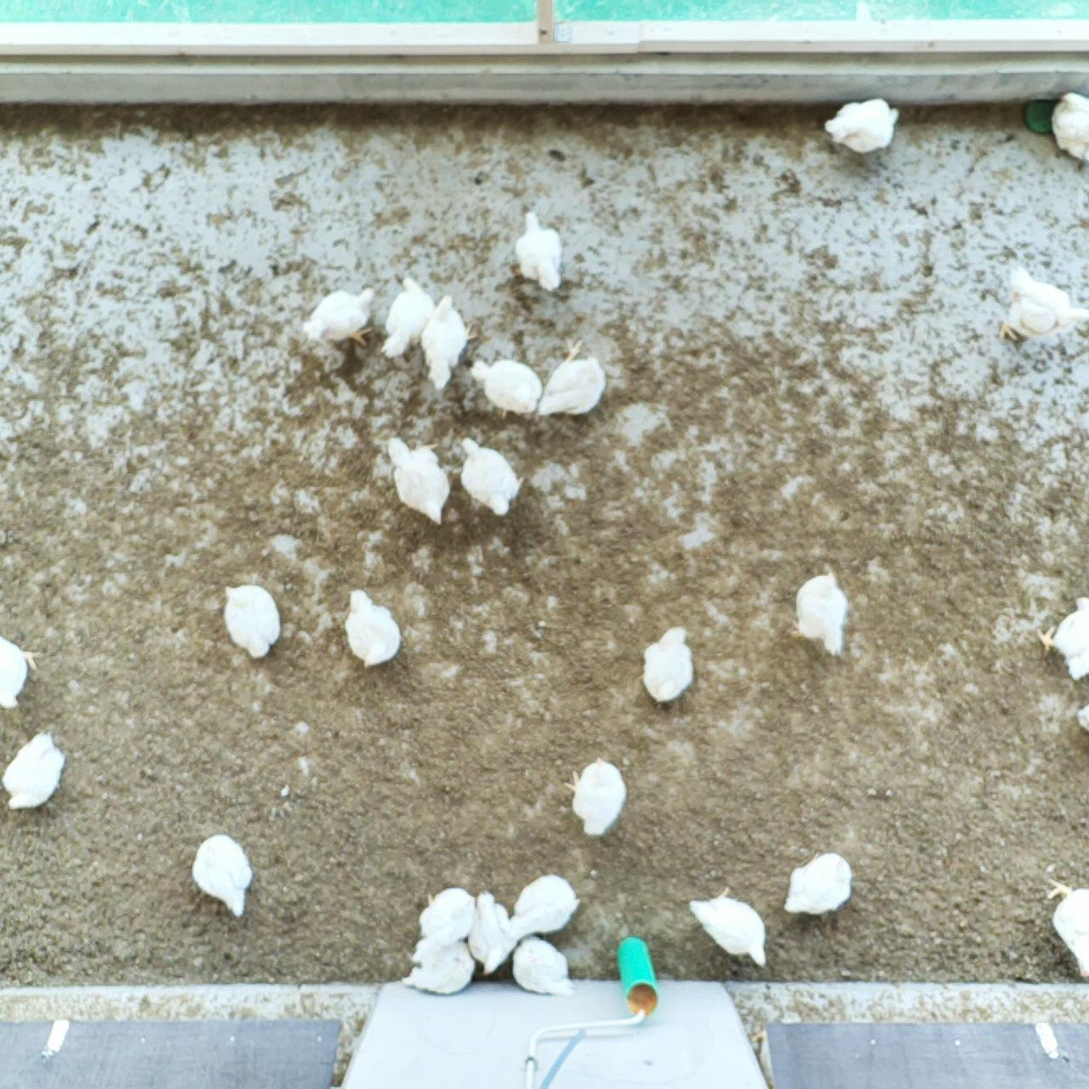chicken: (995, 262, 1089, 346), (687, 882, 771, 970), (385, 432, 453, 530), (0, 725, 69, 815), (535, 334, 608, 419), (419, 295, 481, 393), (456, 435, 526, 519), (190, 830, 255, 920), (562, 754, 629, 840), (787, 568, 849, 659), (506, 871, 584, 943), (341, 586, 406, 670), (820, 94, 904, 158), (298, 285, 378, 352), (1040, 871, 1089, 980), (464, 356, 546, 421), (409, 885, 477, 963), (781, 848, 855, 918), (379, 274, 438, 361), (220, 581, 284, 661), (510, 208, 569, 294), (1036, 592, 1089, 685), (636, 626, 698, 705), (398, 938, 476, 999), (511, 933, 578, 1000), (468, 888, 519, 976), (0, 630, 46, 712), (1048, 88, 1089, 168)
